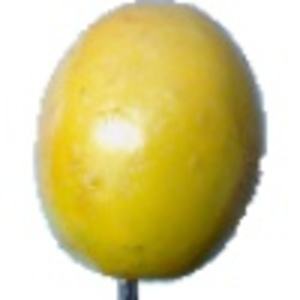maracujá: (33, 1, 269, 300)
